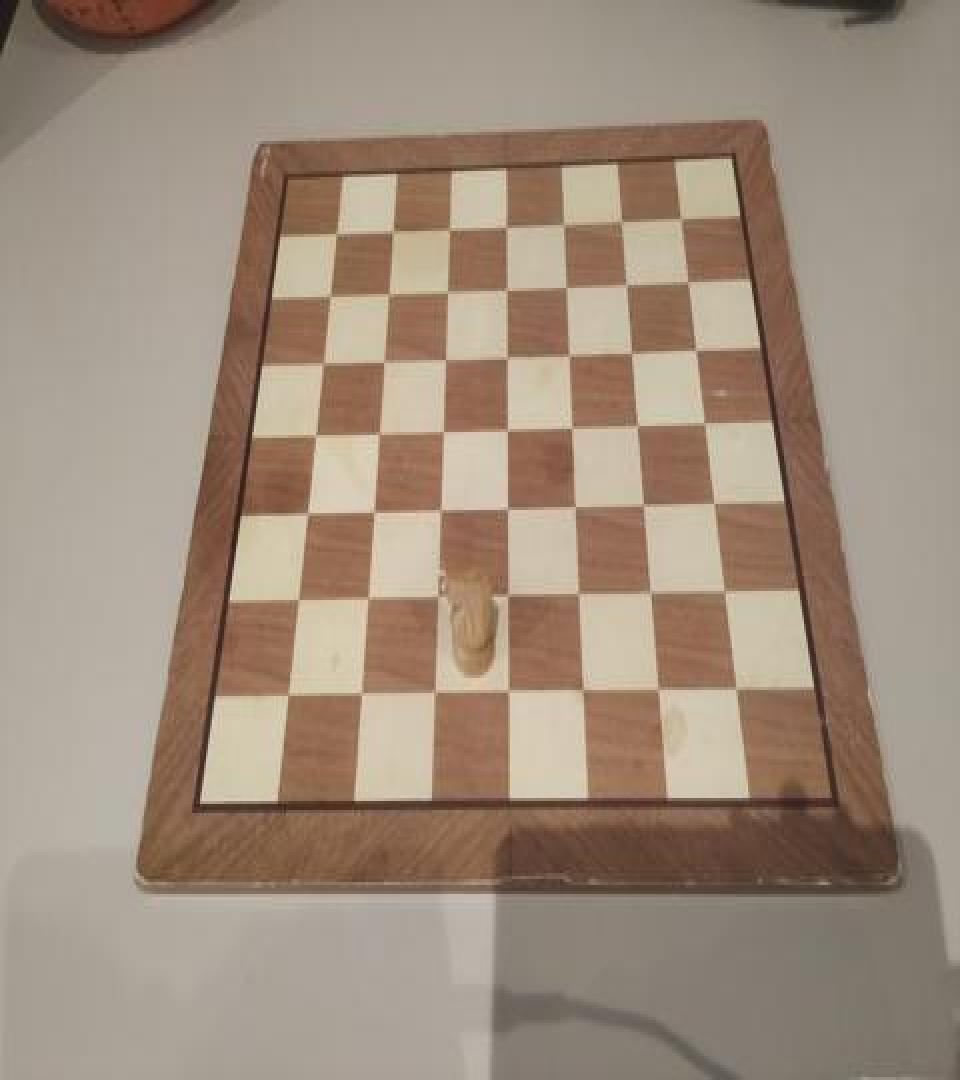xcorner: (672, 199, 692, 230), (274, 681, 294, 711), (347, 680, 367, 710), (421, 680, 441, 710), (496, 678, 516, 708), (572, 678, 592, 708), (648, 676, 668, 706), (726, 675, 746, 705), (284, 585, 304, 615), (354, 584, 374, 614), (425, 582, 445, 612), (568, 579, 588, 609), (641, 578, 661, 608), (715, 578, 735, 608), (294, 496, 314, 526), (361, 495, 381, 525), (428, 494, 448, 524), (496, 492, 516, 522), (565, 490, 585, 520), (634, 489, 654, 519), (705, 488, 725, 518), (303, 417, 323, 447), (367, 416, 387, 446), (431, 414, 451, 444), (496, 411, 516, 441), (562, 410, 582, 440), (628, 408, 648, 438), (695, 405, 715, 435), (311, 344, 331, 374), (372, 342, 392, 372), (434, 340, 454, 370), (496, 338, 516, 368), (559, 336, 579, 366), (623, 333, 643, 363), (687, 332, 707, 362), (318, 278, 338, 308), (377, 274, 397, 304), (437, 272, 457, 302), (497, 270, 517, 300), (557, 267, 577, 297), (618, 266, 638, 296), (679, 262, 699, 292), (325, 214, 345, 244), (382, 212, 402, 242), (439, 210, 459, 240), (497, 207, 517, 237), (555, 204, 575, 234), (613, 202, 633, 232), (496, 581, 516, 610)
